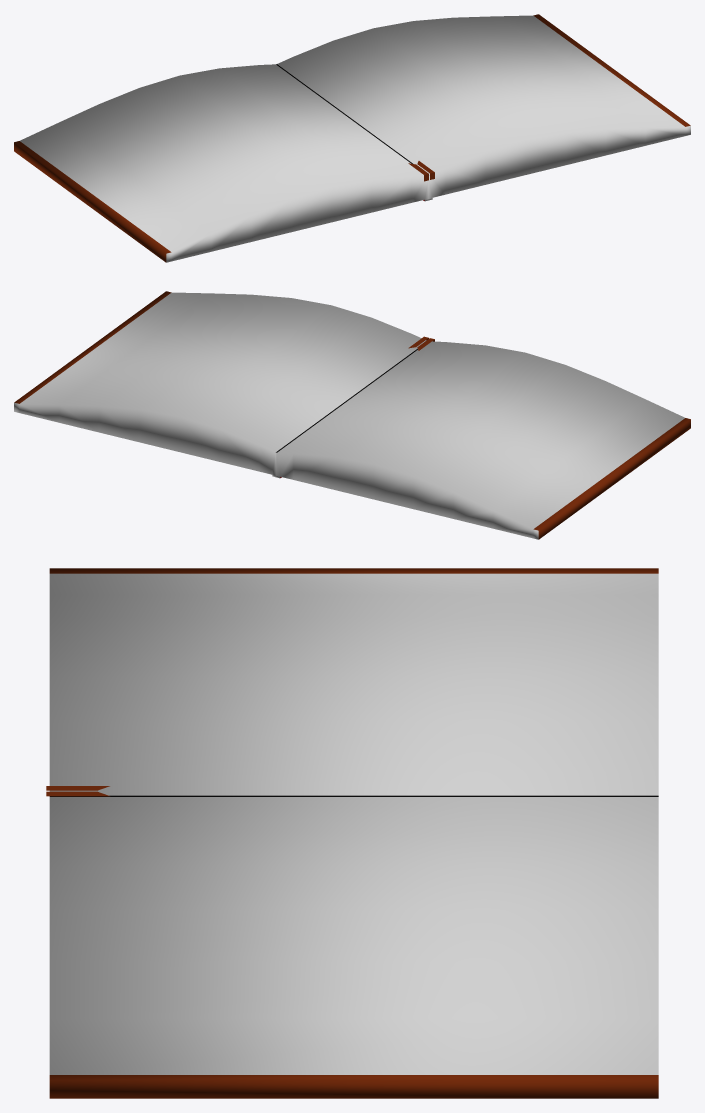
The model's file is livro cruvado.fbx.
3 renders of one model, top to bottom at view 1: azimuth 30°, elevation 25°; view 2: azimuth 150°, elevation 25°; view 3: azimuth 270°, elevation 25°, orthographic. The views are drawn at different scales.
Parts seen in each view (by area): view 1: Cube.005; view 2: Cube.005; view 3: Cube.005.
Part boxes in pixels (left/top/right/bottom): Cube.005: left=14, top=14, right=690, bottom=262; Cube.005: left=14, top=291, right=690, bottom=539; Cube.005: left=46, top=568, right=658, bottom=1098.
Size of the model in its own units: 2.77 by 0.1874 by 1.4.
